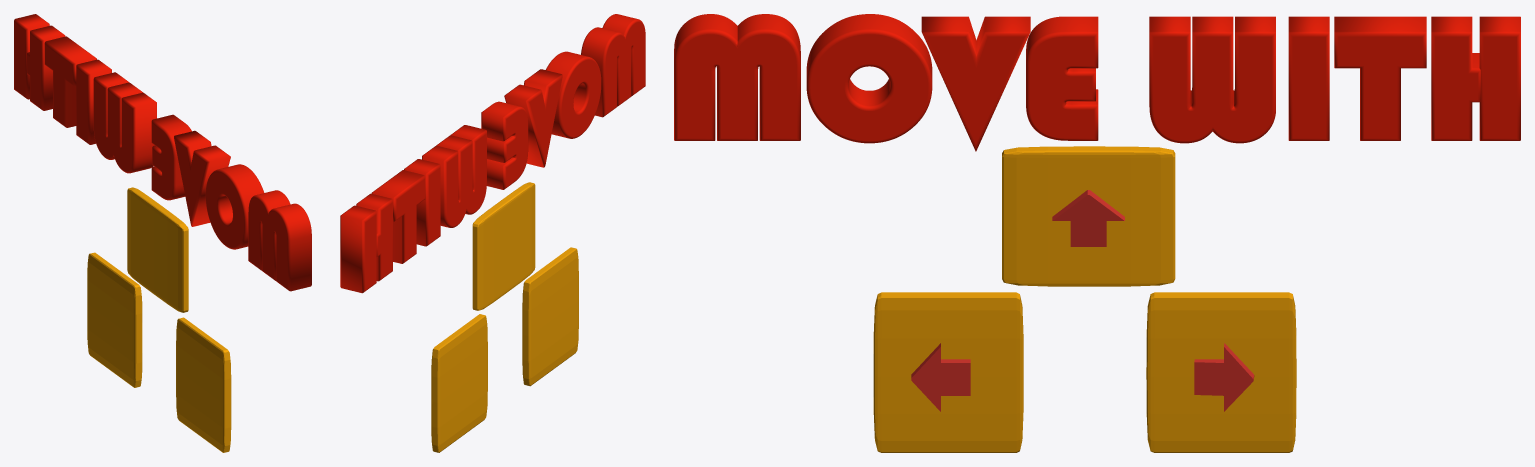
The model's file is pressUp.fbx.
3 renders of one model, left to right at view 1: azimuth 30°, elevation 25°; view 2: azimuth 150°, elevation 25°; view 3: azimuth 270°, elevation 25°, orthographic. The views are drawn at different scales.
Visible parts, largest first — view 1: Text, Cube.004, Cube.001, Cube.005; view 2: Text, Cube.001, Cube.004, Cube.005; view 3: Text, Cube.005, Cube.004, Cube.001, Cube.006, Cube.003, Cube.002.
Part boxes in pixels (bbox=[...]): Text: bbox=[14, 14, 311, 291]; Cube.004: bbox=[87, 252, 142, 387]; Cube.001: bbox=[176, 317, 231, 452]; Cube.005: bbox=[127, 187, 188, 312]; Text: bbox=[340, 14, 645, 293]; Cube.001: bbox=[522, 247, 578, 386]; Cube.004: bbox=[431, 314, 487, 452]; Cube.005: bbox=[472, 182, 535, 310]; Text: bbox=[674, 14, 1520, 151]; Cube.005: bbox=[1002, 146, 1175, 286]; Cube.004: bbox=[1146, 292, 1296, 452]; Cube.001: bbox=[873, 292, 1023, 452]; Cube.006: bbox=[1052, 190, 1124, 246]; Cube.003: bbox=[1194, 343, 1254, 411]; Cube.002: bbox=[911, 343, 970, 411].
Bounding box in the file's own units: 22 × 248 × 437.
